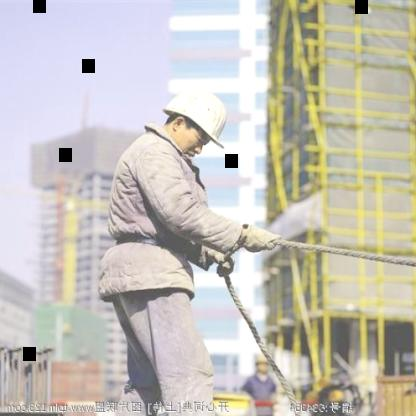helmet: (152, 82, 240, 162)
